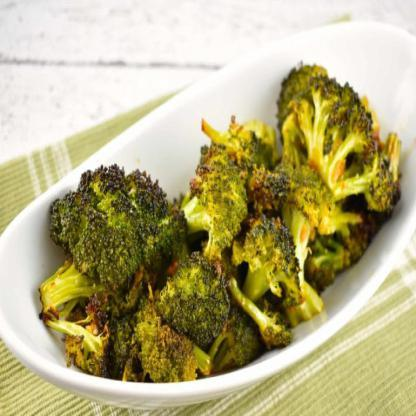broccoli: (36, 56, 398, 384)
